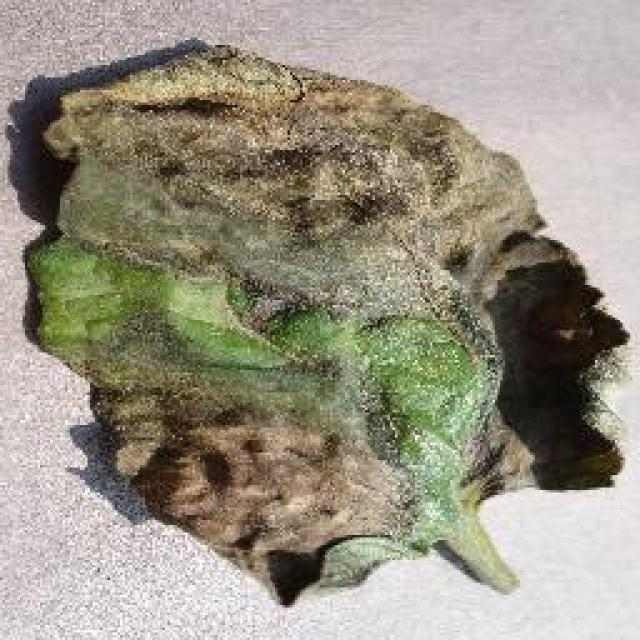Tomato___Late_blight: (26, 44, 637, 605)
